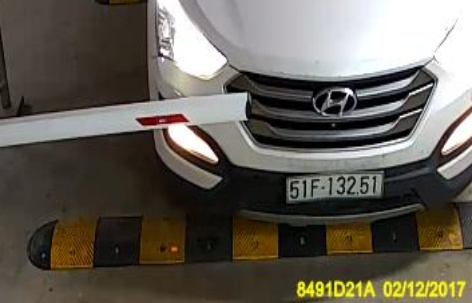plate: (285, 167, 385, 206)
